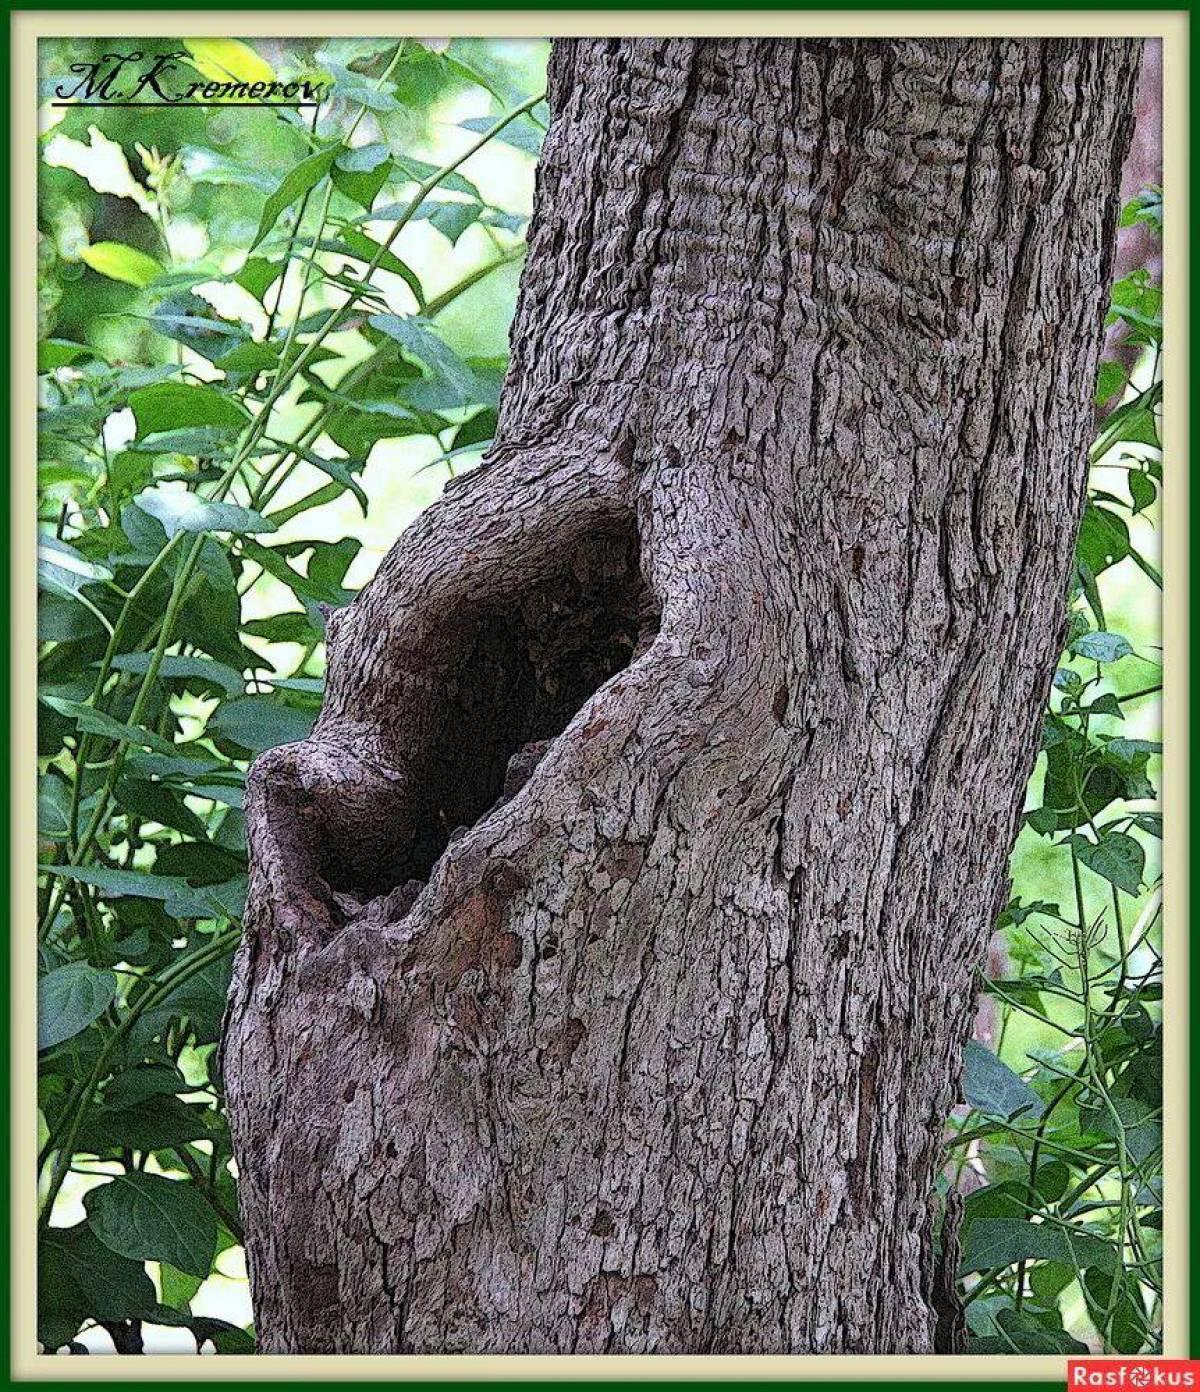hollow: (264, 484, 736, 941)
